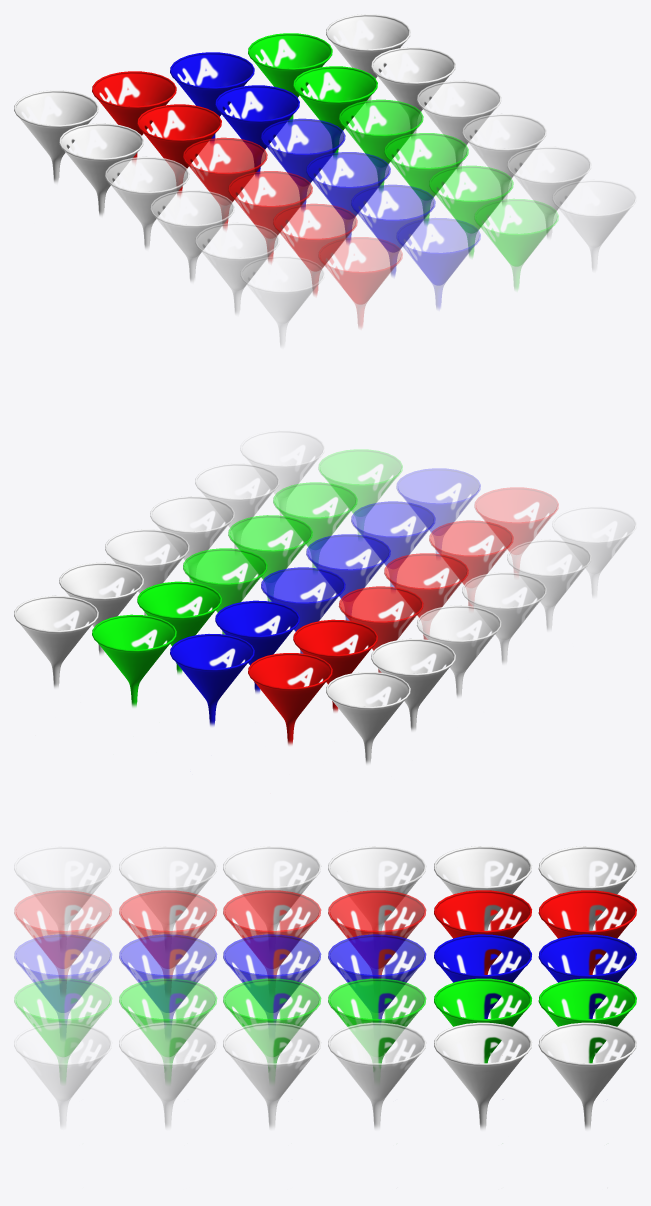
Rendered from KHR_materials_transmission_0.glb.
The picture shows the model from 3 angles, top to bottom: view 1: azimuth 30°, elevation 25°; view 2: azimuth 150°, elevation 25°; view 3: azimuth 270°, elevation 25°; orthographic projection. The views are drawn at different scales.
Parts seen in each view (by area): view 1: MartiniGlass.005, MartiniGlass.014, MartiniGlass.002, MartiniGlass.001, MartiniGlass.003, MartiniGlass.010, MartiniGlass.011, MartiniGlass.013, MartiniGlass.004, MartiniGlass.012, MartiniGlass.020, MartiniGlass.016 (+18 smaller); view 2: MartiniGlass.006, MartiniGlass.007, MartiniGlass.008, MartiniGlass.015, MartiniGlass.009, MartiniGlass.020, MartiniGlass.025, MartiniGlass.017, MartiniGlass.019, MartiniGlass.018, MartiniGlass.016, MartiniGlass.030 (+18 smaller); view 3: MartiniGlass.001, MartiniGlass.006, MartiniGlass.010, MartiniGlass.016, MartiniGlass.021, MartiniGlass.012, MartiniGlass.018, MartiniGlass.014, MartiniGlass.013, MartiniGlass.011, MartiniGlass.019, MartiniGlass.020 (+18 smaller).
Boxes of the visible parts, x1,y1,x2,y2 form: MartiniGlass.005: (59,123,143,216); MartiniGlass.014: (105,156,189,249); MartiniGlass.002: (137,104,221,196); MartiniGlass.001: (371,47,455,138); MartiniGlass.003: (293,66,377,157); MartiniGlass.010: (416,80,501,172); MartiniGlass.011: (183,137,267,229); MartiniGlass.013: (261,118,345,210); MartiniGlass.004: (215,85,299,176); MartiniGlass.012: (338,99,423,191); MartiniGlass.020: (150,190,234,281); MartiniGlass.016: (462,113,546,205); MartiniGlass.006: (14,595,98,687); MartiniGlass.007: (248,653,332,744); MartiniGlass.008: (92,614,176,706); MartiniGlass.015: (326,672,410,763); MartiniGlass.009: (170,634,254,725); MartiniGlass.020: (462,572,546,663); MartiniGlass.025: (507,539,591,630); MartiniGlass.017: (384,553,468,639); MartiniGlass.019: (306,534,390,620); MartiniGlass.018: (228,515,312,601); MartiniGlass.016: (150,496,234,582); MartiniGlass.030: (552,506,636,595); MartiniGlass.001: (434,1022,531,1129); MartiniGlass.006: (538,1022,636,1129); MartiniGlass.010: (328,1022,426,1128); MartiniGlass.016: (223,1022,321,1128); MartiniGlass.021: (119,1023,216,1127); MartiniGlass.012: (328,978,426,1070); MartiniGlass.018: (223,978,321,1071); MartiniGlass.014: (328,846,426,934); MartiniGlass.013: (328,934,426,1022); MartiniGlass.011: (328,890,426,978); MartiniGlass.019: (223,934,321,1022); MartiniGlass.020: (223,846,321,934).
Size of the model in its own units: 0.593 by 0.1751 by 0.716.
Materials: 30 (30 with a texture image).
